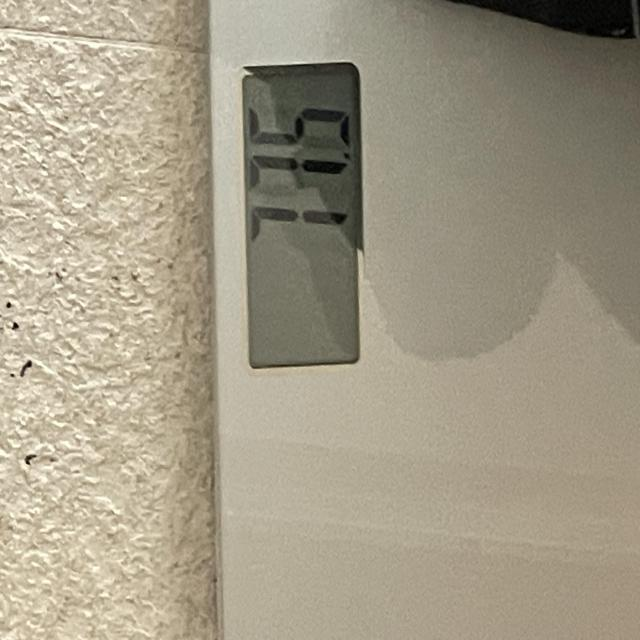ws: (207, 0, 640, 640)
